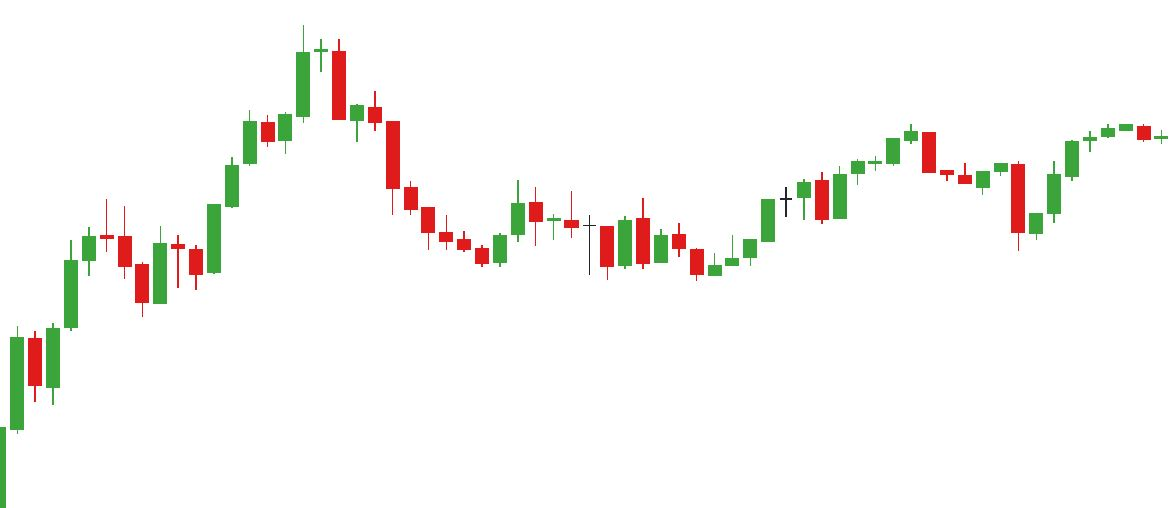buy: (474, 209, 636, 285)
